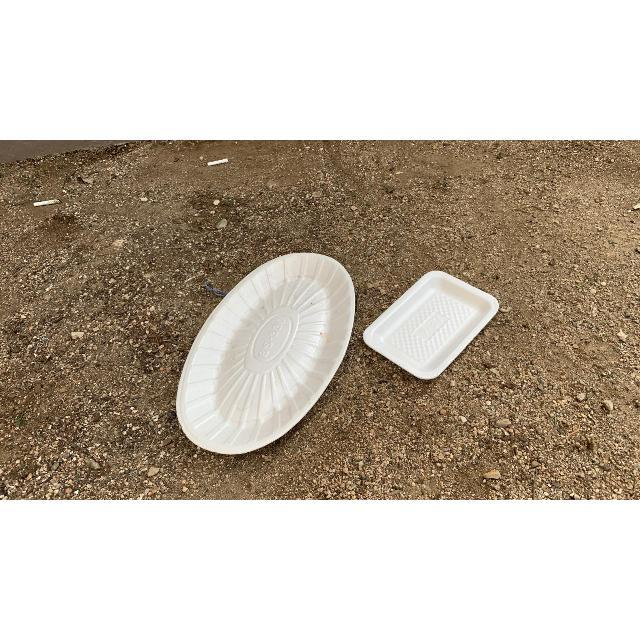Recipiente plastico: (176, 252, 355, 454), (364, 271, 499, 379)
